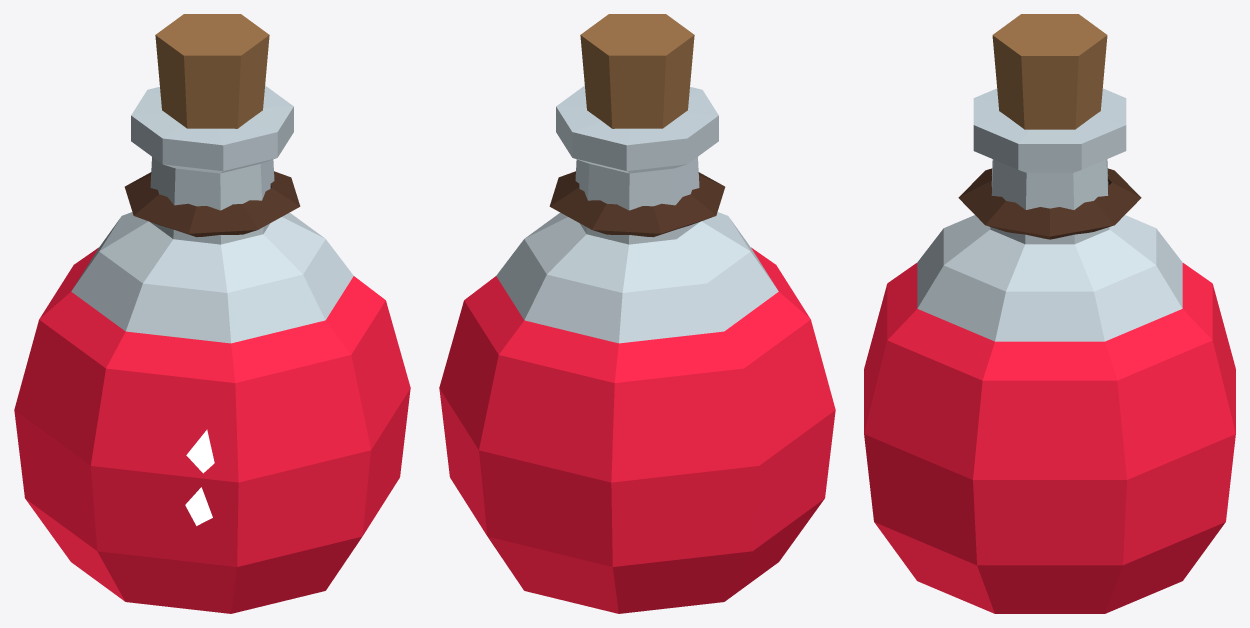
Rendered from Item_HealthPotion.glb.
The picture shows the model from 3 angles, left to right: view 1: azimuth 30°, elevation 25°; view 2: azimuth 150°, elevation 25°; view 3: azimuth 270°, elevation 25°; orthographic projection.
Parts seen in each view (by area): view 1: Item_HealthPotion; view 2: Item_HealthPotion; view 3: Item_HealthPotion.
Part boxes in pixels (left/top/right/bottom): Item_HealthPotion: left=14, top=14, right=410, bottom=613; Item_HealthPotion: left=439, top=14, right=835, bottom=613; Item_HealthPotion: left=864, top=14, right=1235, bottom=613.
Bounding box in the file's own units: 0.2069 × 0.325 × 0.2069.
